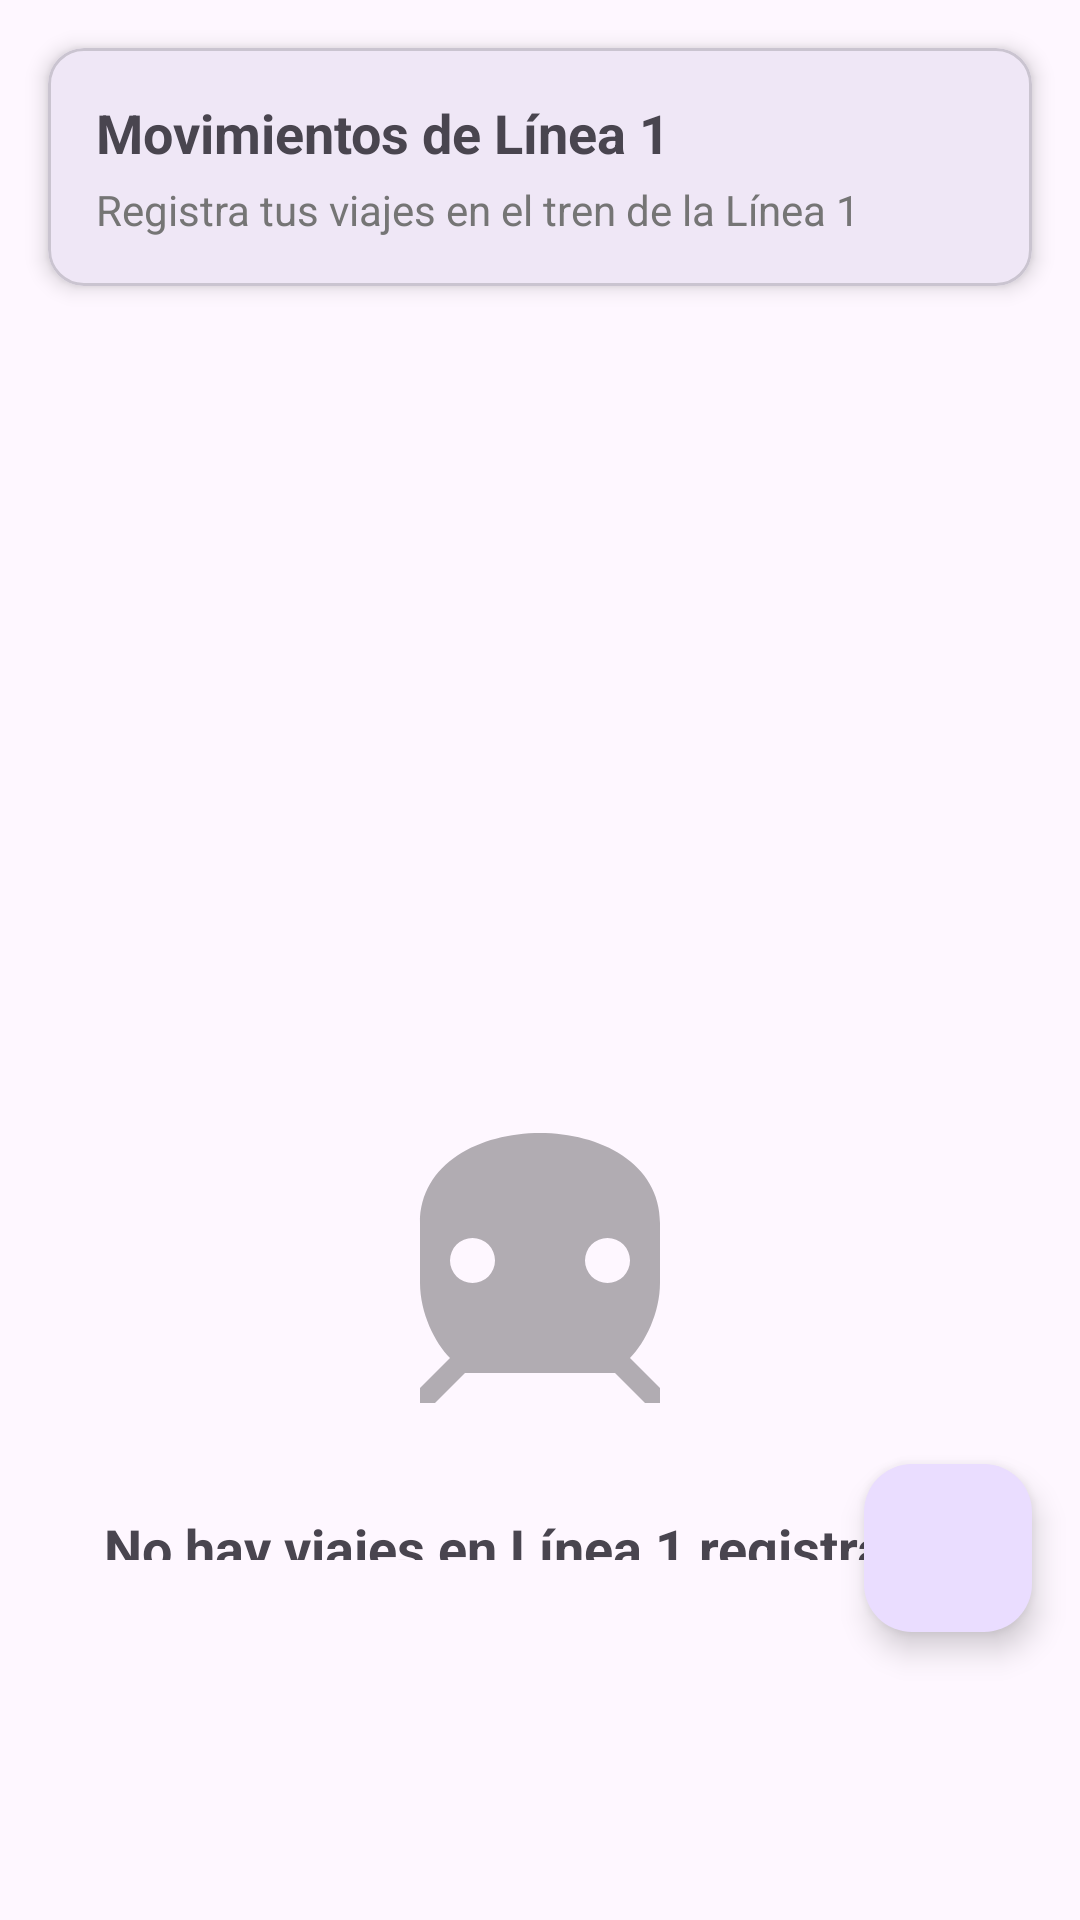

Point at icon controls on the screen. Image size 1080px x 1920px, points as [x,y].
train: [540,1268]
